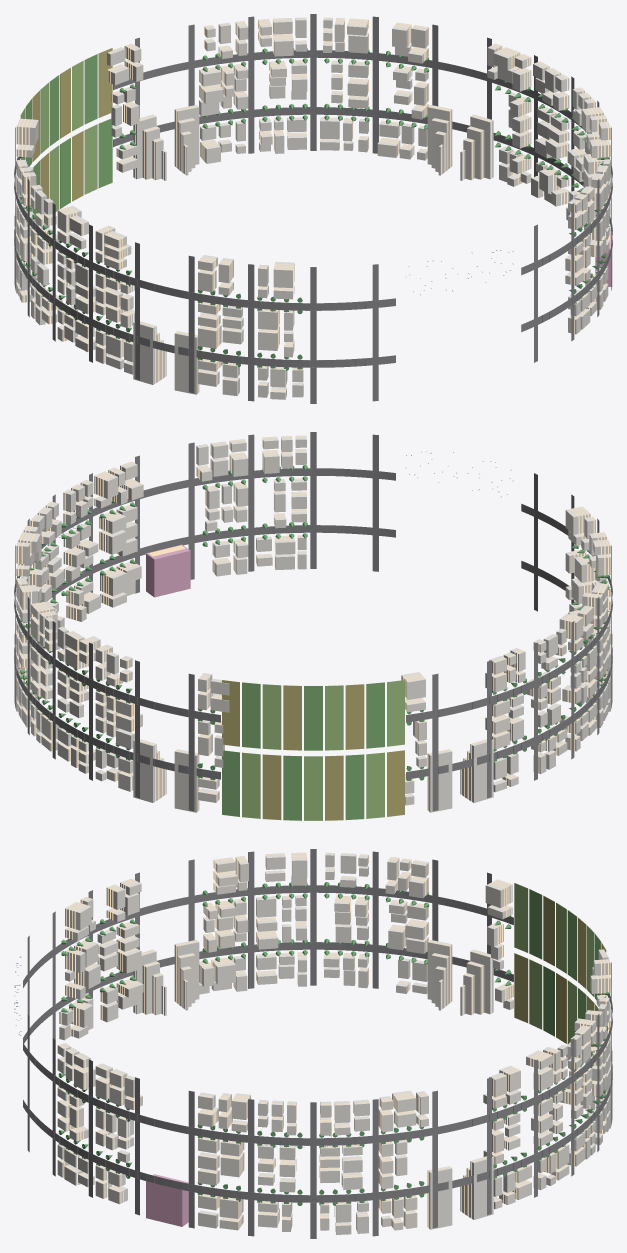
Rendered from ring_city.glb.
3 views of the same model, one above another, from view 1: azimuth 30°, elevation 25°; view 2: azimuth 150°, elevation 25°; view 3: azimuth 270°, elevation 25° (orthographic).
Visible parts, largest first — view 1: Häuser, Straßen, Wohnen an den Speichen, Fenster der Häuser, Bäume, Felder 2 (Vorschlag), Felder 1 (Vorschlag), Felder 3 (Vorschlag), Fenster der Wohnungen; view 2: Häuser, Straßen, Fenster der Häuser, Felder 3 (Vorschlag), Felder 2 (Vorschlag), Felder 1 (Vorschlag), Wohnen an den Speichen, Bäume, Bar, Fenster der Wohnungen; view 3: Häuser, Straßen, Fenster der Häuser, Wohnen an den Speichen, Bäume, Felder 3 (Vorschlag), Felder 1 (Vorschlag), Felder 2 (Vorschlag), Bar, Fenster der Wohnungen.
Boxes of the visible parts, left/top/right/bottom form: Häuser: left=16, top=17, right=610, bottom=399; Straßen: left=14, top=14, right=612, bottom=403; Wohnen an den Speichen: left=14, top=105, right=493, bottom=394; Fenster der Häuser: left=18, top=18, right=608, bottom=398; Bäume: left=18, top=48, right=610, bottom=370; Felder 2 (Vorschlag): left=26, top=54, right=112, bottom=225; Felder 1 (Vorschlag): left=32, top=48, right=112, bottom=214; Felder 3 (Vorschlag): left=20, top=60, right=97, bottom=211; Fenster der Wohnungen: left=17, top=106, right=491, bottom=393; Häuser: left=16, top=435, right=610, bottom=805; Straßen: left=14, top=432, right=612, bottom=811; Fenster der Häuser: left=18, top=436, right=608, bottom=801; Felder 3 (Vorschlag): left=242, top=680, right=404, bottom=820; Felder 2 (Vorschlag): left=222, top=682, right=384, bottom=820; Felder 1 (Vorschlag): left=222, top=680, right=404, bottom=820; Wohnen an den Speichen: left=14, top=624, right=612, bottom=812; Bäume: left=16, top=464, right=610, bottom=780; Bar: left=146, top=544, right=190, bottom=597; Fenster der Wohnungen: left=17, top=633, right=609, bottom=811; Häuser: left=57, top=852, right=610, bottom=1234; Straßen: left=23, top=849, right=612, bottom=1238; Fenster der Häuser: left=59, top=853, right=608, bottom=1233; Wohnen an den Speichen: left=133, top=940, right=612, bottom=1229; Bäume: left=58, top=882, right=610, bottom=1205; Felder 3 (Vorschlag): left=514, top=883, right=598, bottom=1044; Felder 1 (Vorschlag): left=514, top=895, right=606, bottom=1046; Felder 2 (Vorschlag): left=529, top=889, right=600, bottom=1036; Bar: left=146, top=1174, right=188, bottom=1226; Fenster der Wohnungen: left=135, top=941, right=607, bottom=1228.
Size of the model in its own units: 572 by 145 by 572.
